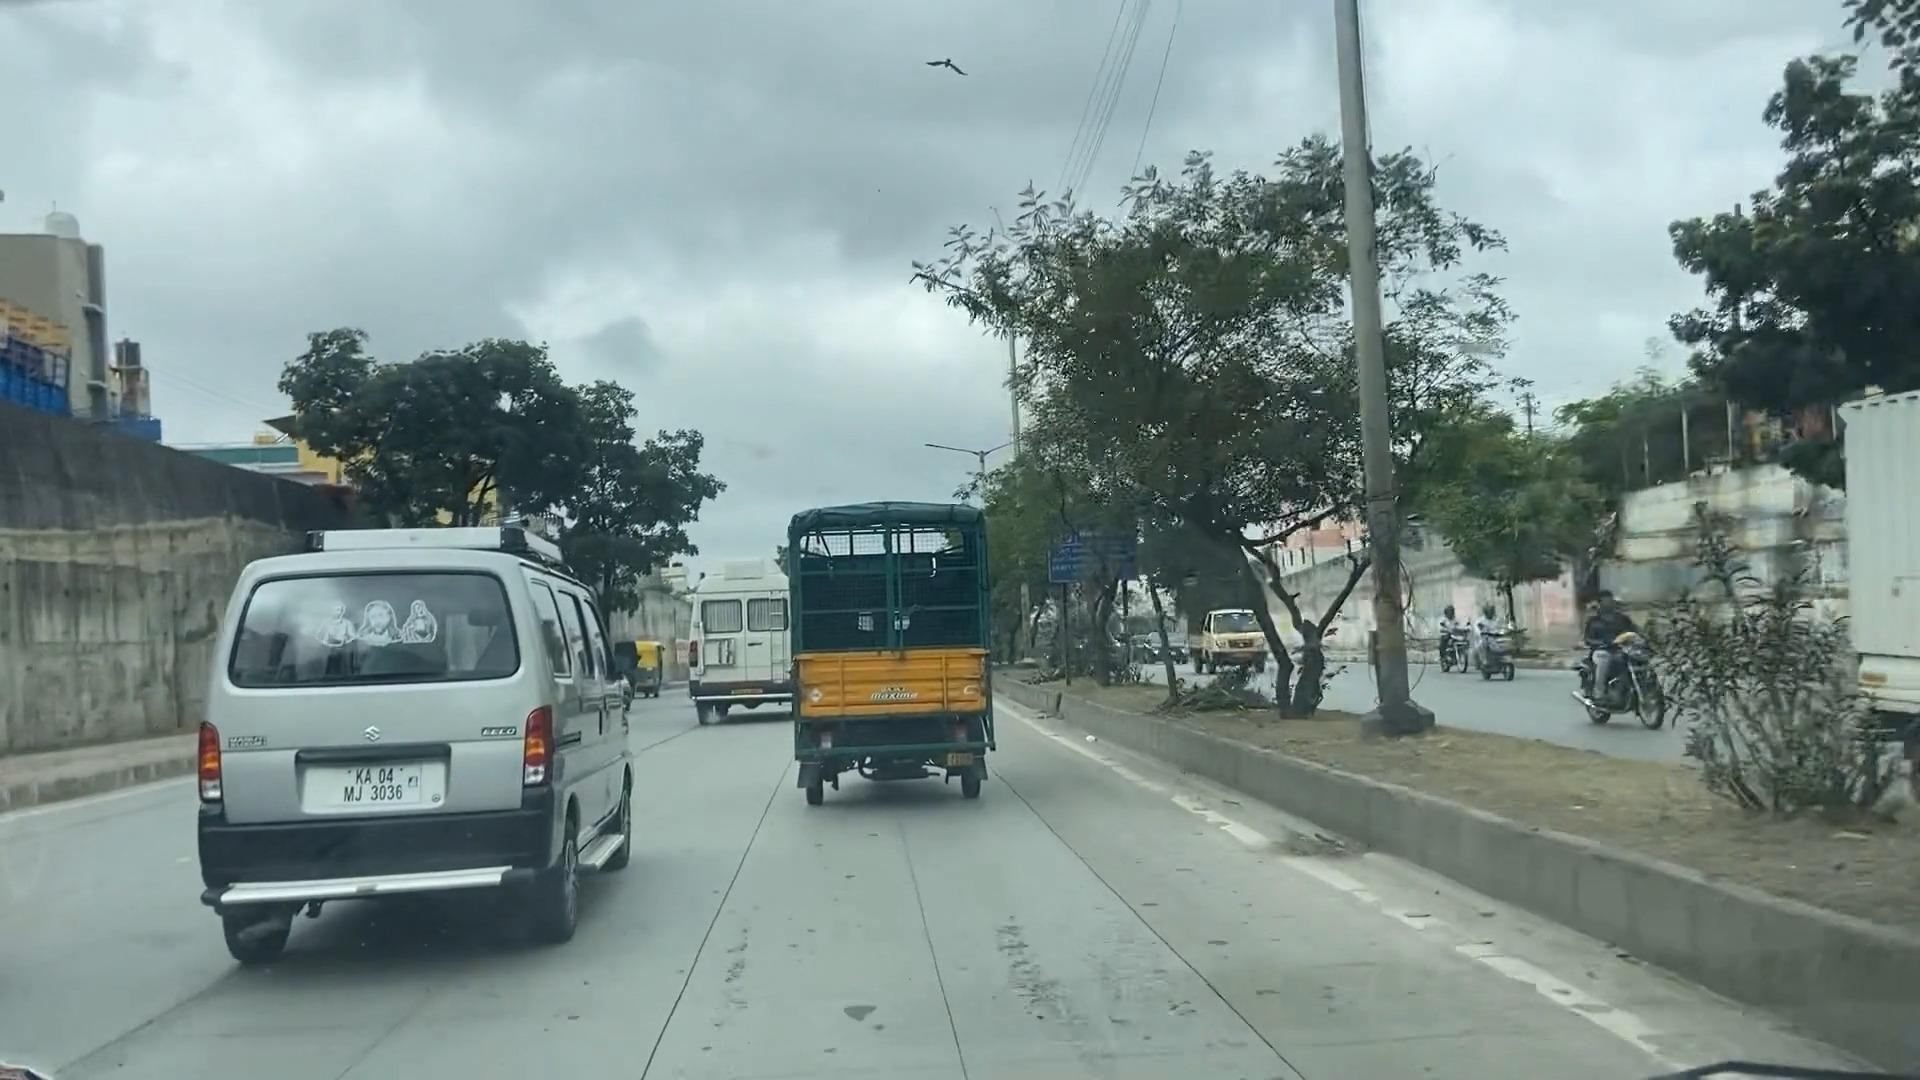HMV: (766, 501, 997, 816), (675, 571, 790, 728)
LMV: (183, 543, 633, 960)
